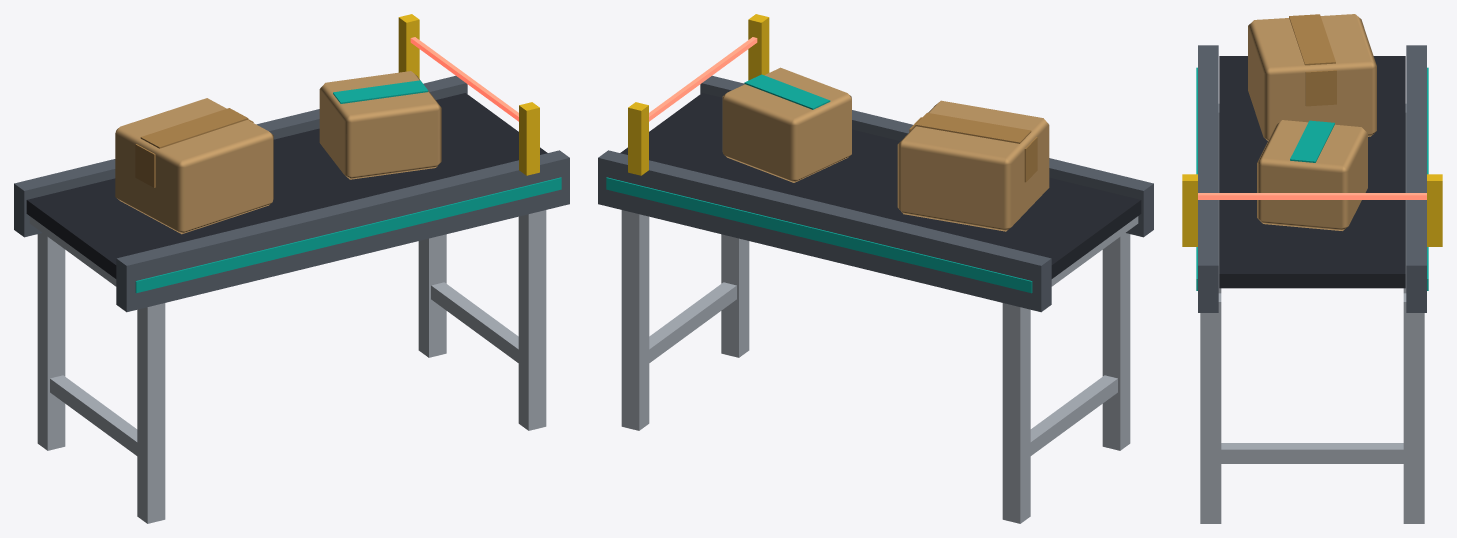
Rendered from station_transport_basis.glb.
The picture shows the model from 3 angles, left to right: view 1: azimuth 30°, elevation 25°; view 2: azimuth 150°, elevation 25°; view 3: azimuth 270°, elevation 25°; orthographic projection.
Parts seen in each view (by area): view 1: station_transport_basis; view 2: station_transport_basis; view 3: station_transport_basis.
Part boxes in pixels (x1,y1,x2,y2): station_transport_basis: (14,14,569,523); station_transport_basis: (598,14,1153,523); station_transport_basis: (1182,14,1442,523).
Size of the model in its own units: 1 by 0.714 by 0.5.
